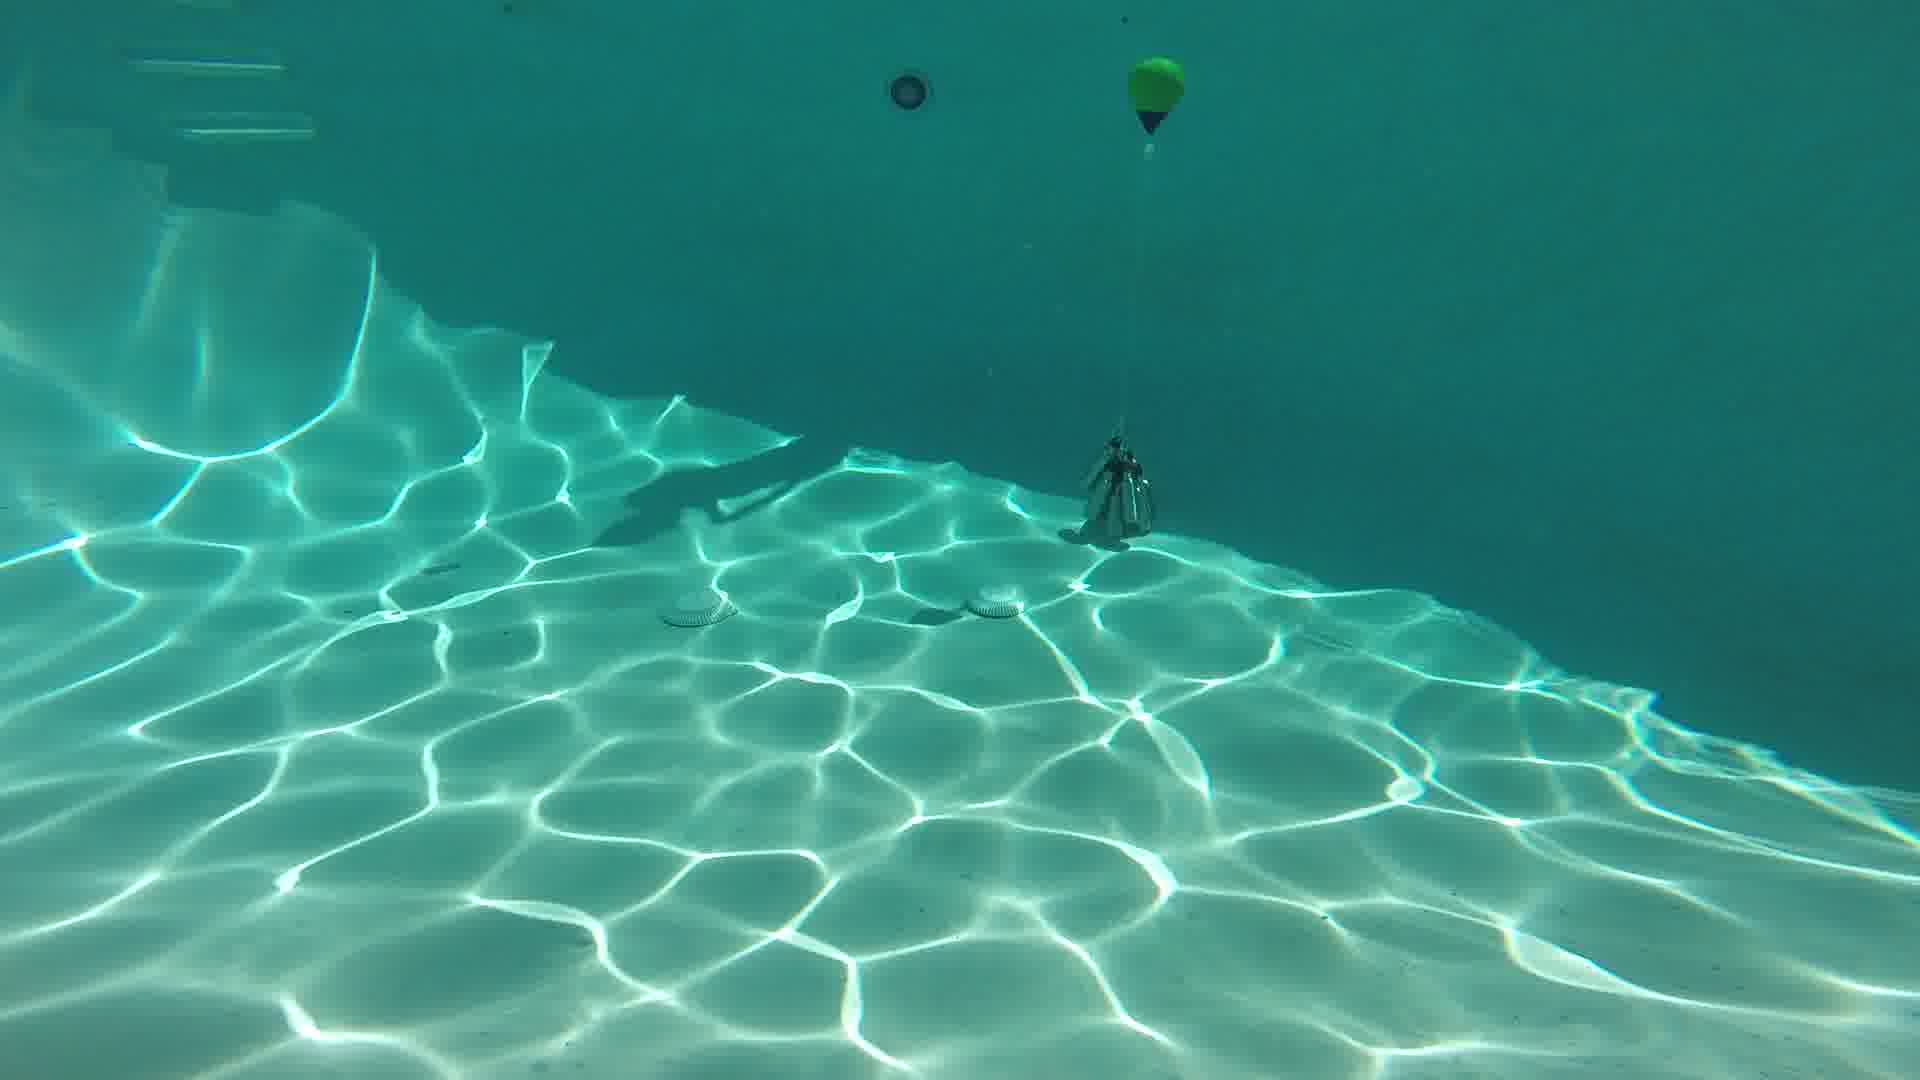yellow_buoy: (1130, 55, 1184, 133)
